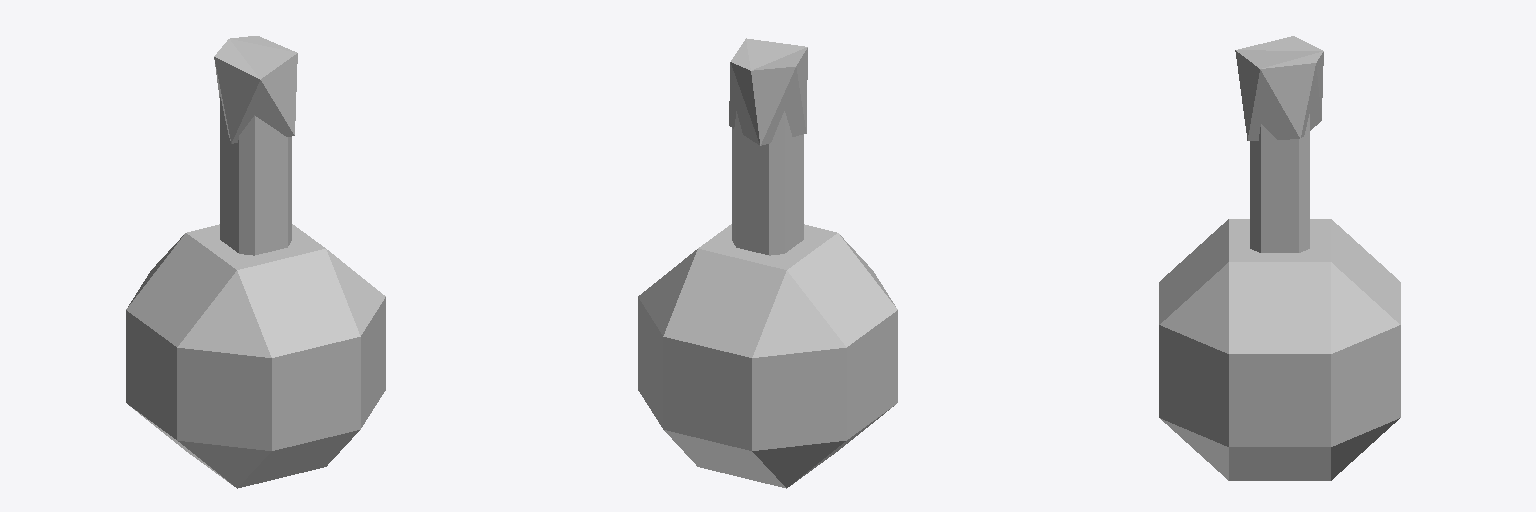
Rendered from RofPotion.obj.
The picture shows the model from 3 angles: view 1: azimuth 30°, elevation 25°; view 2: azimuth 150°, elevation 25°; view 3: azimuth 270°, elevation 25°; orthographic projection.
Visible parts, largest first — view 1: Cylinder; view 2: Cylinder; view 3: Cylinder.
Part boxes in pixels (x1,y1,x2,y2): Cylinder: (126,36,385,488); Cylinder: (638,38,897,488); Cylinder: (1159,36,1400,480).
Size of the model in its own units: 2 by 3.72 by 2.